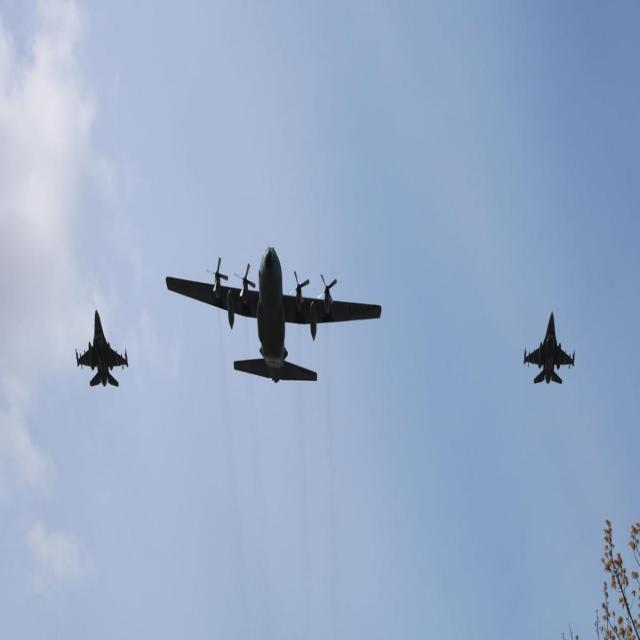MIL_Plane: (166, 246, 382, 383), (75, 307, 129, 387), (522, 310, 576, 385)
